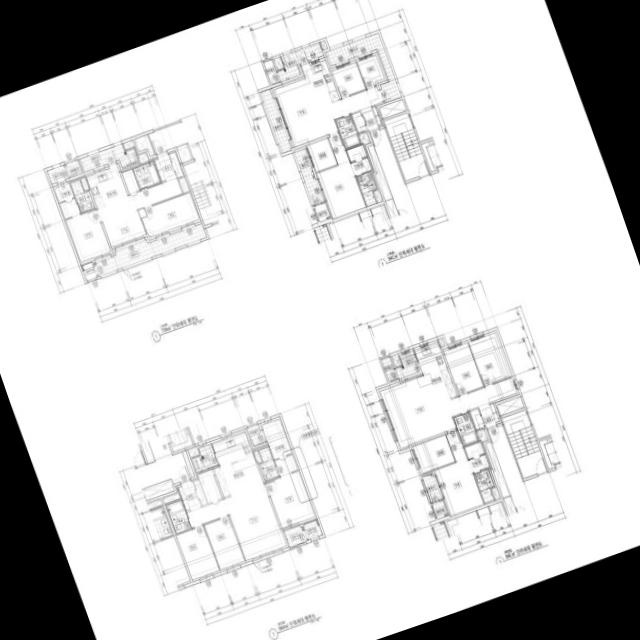background: (0, 0, 640, 640)
space_balconi: (92, 223, 206, 276), (325, 32, 401, 101), (259, 88, 291, 153), (277, 42, 323, 81), (78, 143, 138, 172), (294, 148, 323, 205), (395, 350, 421, 381), (191, 443, 218, 472), (421, 472, 442, 502), (283, 525, 307, 546), (46, 164, 67, 184)
space_bedroom: (316, 133, 365, 218), (434, 430, 483, 515), (265, 470, 314, 528), (141, 192, 198, 236), (65, 209, 110, 261), (175, 525, 218, 579), (468, 332, 510, 385), (203, 516, 244, 569), (443, 342, 482, 394), (331, 62, 365, 97), (356, 54, 383, 88)
space_dressroom: (261, 418, 297, 475), (54, 181, 79, 218), (463, 441, 489, 472), (346, 144, 371, 175)
space_front: (153, 151, 182, 183), (177, 479, 200, 511), (478, 402, 499, 428), (359, 105, 381, 129)
space_kitchen: (211, 431, 263, 497), (413, 341, 456, 404), (300, 59, 339, 108), (85, 162, 127, 206)
space_living_room: (379, 375, 516, 447), (186, 482, 286, 559), (273, 77, 381, 146), (96, 177, 181, 246)
space_multipurpose_space: (412, 434, 454, 472), (306, 137, 336, 171)
space_other: (485, 441, 510, 498), (367, 144, 392, 200), (197, 469, 221, 503), (379, 99, 406, 118), (496, 396, 523, 415), (121, 168, 139, 193), (134, 134, 154, 156), (246, 423, 265, 445), (263, 59, 279, 84), (381, 356, 397, 381), (192, 479, 207, 505), (181, 450, 194, 477), (351, 111, 366, 132), (469, 408, 484, 429), (175, 143, 191, 162), (65, 159, 81, 177), (162, 493, 180, 503), (178, 176, 188, 192), (273, 56, 283, 69), (122, 139, 134, 149), (358, 131, 368, 143), (476, 428, 486, 440), (490, 486, 499, 499), (137, 153, 148, 163), (80, 177, 88, 190), (373, 189, 381, 202), (253, 449, 261, 462), (188, 448, 199, 457), (392, 355, 401, 366), (319, 40, 326, 49), (438, 339, 443, 346)
space_outdoor_room: (302, 519, 322, 539), (313, 202, 330, 221), (80, 261, 96, 280), (431, 499, 447, 518)
space_staircase: (501, 409, 546, 477), (384, 112, 428, 180)
space_toilet: (335, 114, 360, 148), (165, 499, 190, 533), (453, 412, 478, 446), (69, 179, 94, 212), (132, 160, 160, 189), (355, 171, 376, 206), (258, 446, 278, 481), (473, 468, 493, 503)
